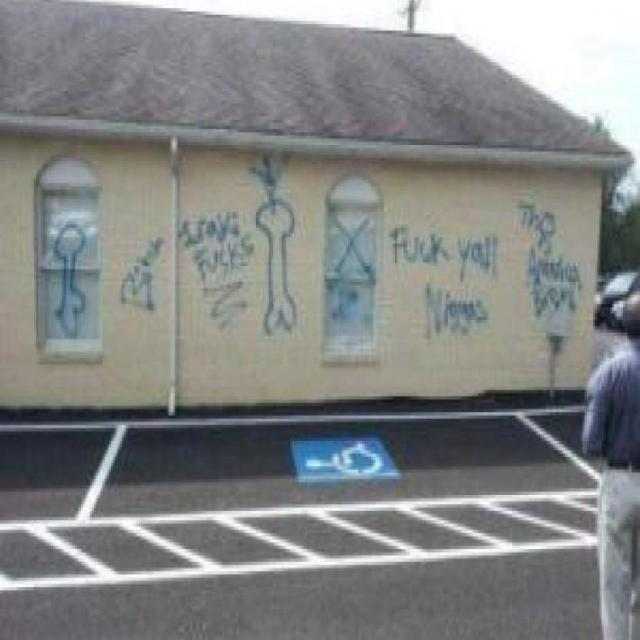nonspitting: (390, 221, 497, 337), (178, 214, 252, 336), (250, 156, 297, 336), (518, 198, 584, 319), (330, 210, 372, 322), (52, 218, 88, 336), (118, 234, 166, 312)
